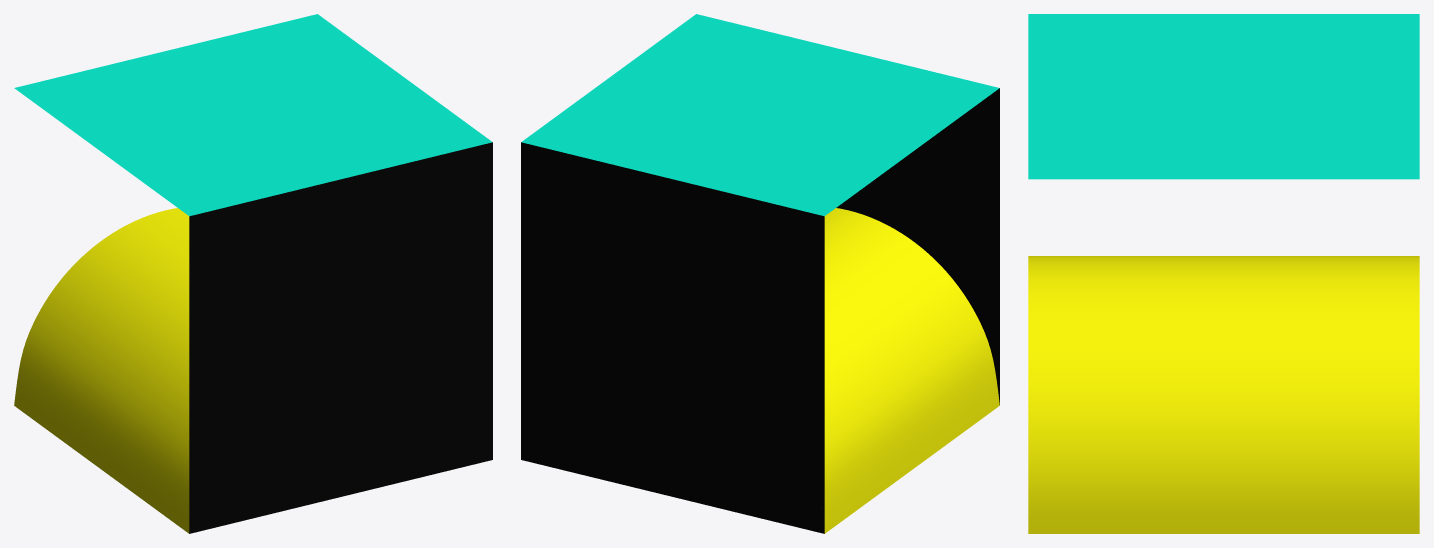
The model's file is asset.gltf.
3 views of the same model, side by side, from view 1: azimuth 30°, elevation 25°; view 2: azimuth 150°, elevation 25°; view 3: azimuth 270°, elevation 25° (orthographic). The views are drawn at different scales.
Visible parts, largest first — view 1: node-0; view 2: node-0; view 3: node-0.
Part boxes in pixels (left/top/right/bottom): node-0: left=14, top=14, right=492, bottom=533; node-0: left=521, top=14, right=999, bottom=533; node-0: left=1028, top=14, right=1419, bottom=533.
Size of the model in its own units: 1 by 1 by 1.
